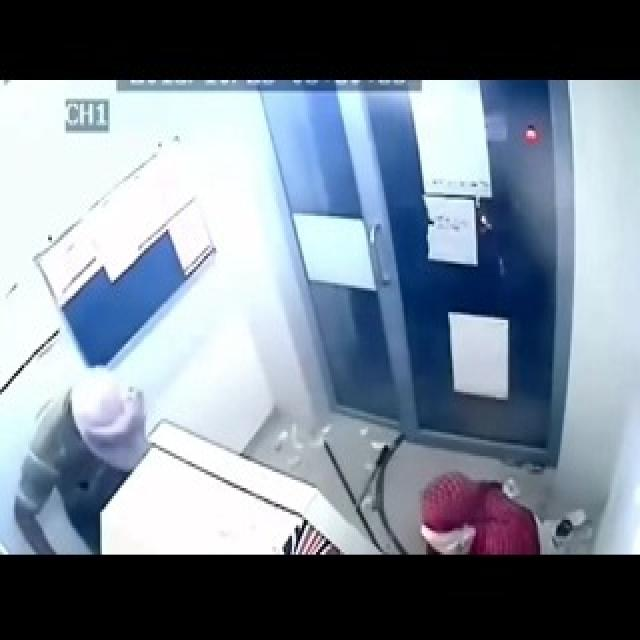thief: (14, 377, 150, 543), (403, 464, 547, 556)
